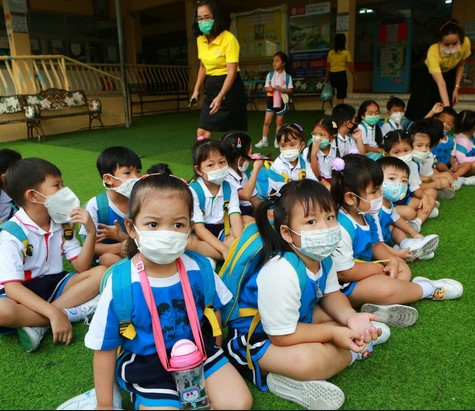face_with_mask: (127, 173, 198, 267), (273, 180, 345, 263), (2, 157, 67, 219), (331, 156, 385, 217), (97, 146, 141, 196), (377, 152, 411, 209), (196, 145, 231, 185), (192, 3, 225, 41), (433, 21, 463, 58), (275, 122, 304, 160), (310, 114, 337, 149), (411, 130, 432, 164), (358, 99, 382, 126), (386, 96, 409, 122)
